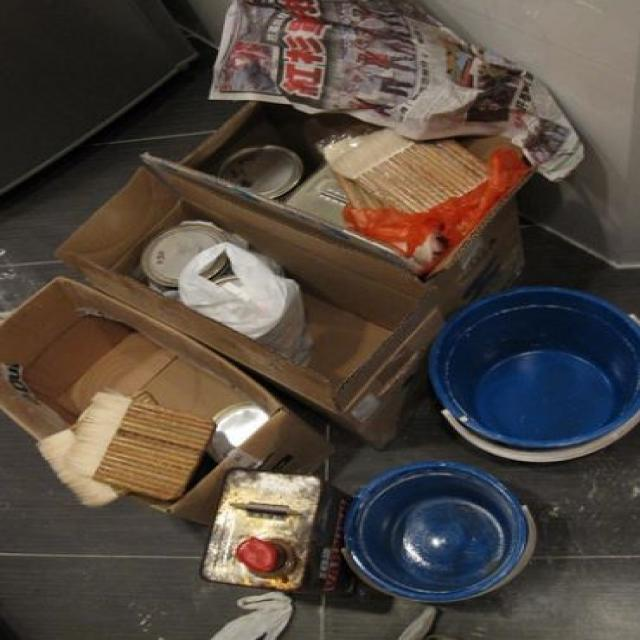metal: (204, 473, 313, 582)
paper: (230, 0, 612, 151), (139, 162, 425, 363), (0, 295, 213, 486)
plastic: (429, 294, 640, 441), (340, 463, 562, 599)
